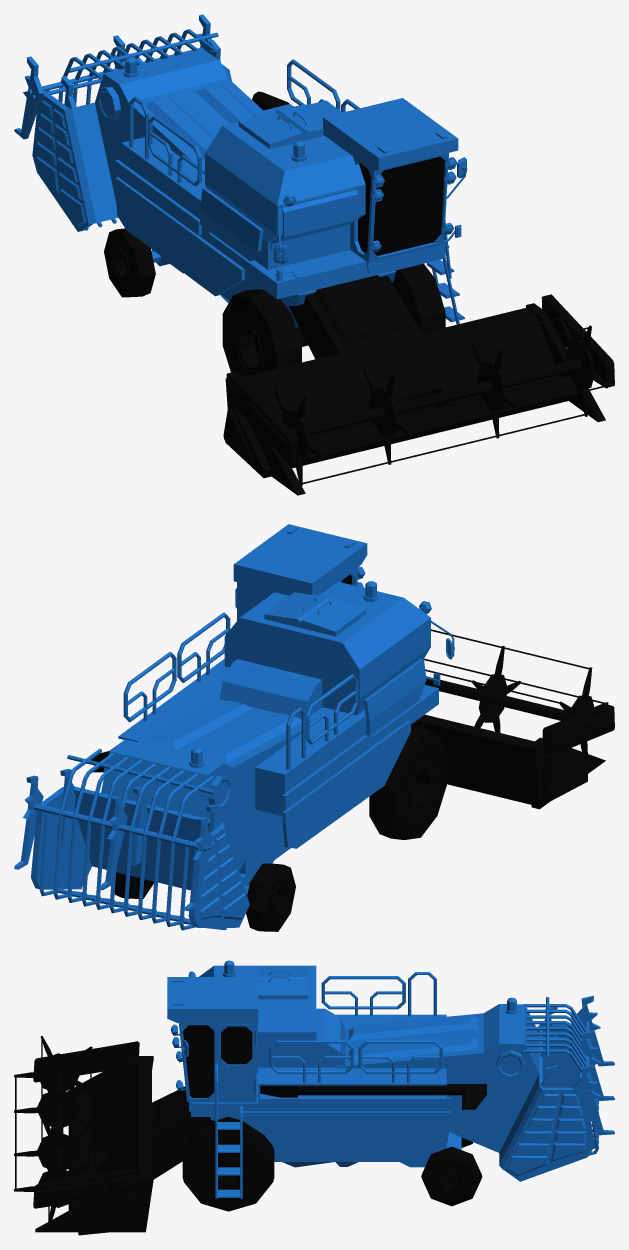
Rendered from SM_harvester.fbx.
3 views of the same model, one above another, from view 1: azimuth 30°, elevation 25°; view 2: azimuth 150°, elevation 25°; view 3: azimuth 270°, elevation 25° (orthographic). The views are drawn at different scales.
Parts seen in each view (by area): view 1: Cube_25, Cylinder_10_2, Cylinder_18, Cylinder_14, Cylinder_15; view 2: Cube_25, Cylinder_10_2, Cylinder_14, Cylinder_18, Cylinder_15, Cylinder_13; view 3: Cube_25, Cylinder_10_2, Cylinder_18, Cylinder_14, Cylinder_13, Cylinder_10, Cube_23.
Boxes of the visible parts, box(x1,y1,x2,y2) form: Cube_25: box(14, 14, 467, 327); Cylinder_10_2: box(223, 275, 614, 495); Cylinder_18: box(274, 316, 608, 485); Cylinder_14: box(222, 263, 445, 376); Cylinder_15: box(104, 228, 155, 297); Cube_25: box(14, 524, 454, 930); Cylinder_10_2: box(411, 704, 614, 809); Cylinder_14: box(369, 727, 447, 839); Cylinder_18: box(424, 629, 608, 753); Cylinder_15: box(246, 863, 295, 931); Cylinder_13: box(114, 872, 153, 898); Cube_25: box(167, 960, 614, 1198); Cylinder_10_2: box(33, 1041, 213, 1235); Cylinder_18: box(14, 1036, 97, 1221); Cylinder_14: box(182, 1117, 274, 1211); Cylinder_13: box(421, 1146, 482, 1206); Cylinder_10: box(298, 1084, 486, 1109); Cube_23: box(260, 1085, 297, 1097).
Bounding box in the file's own units: 580 × 424 × 1119.
